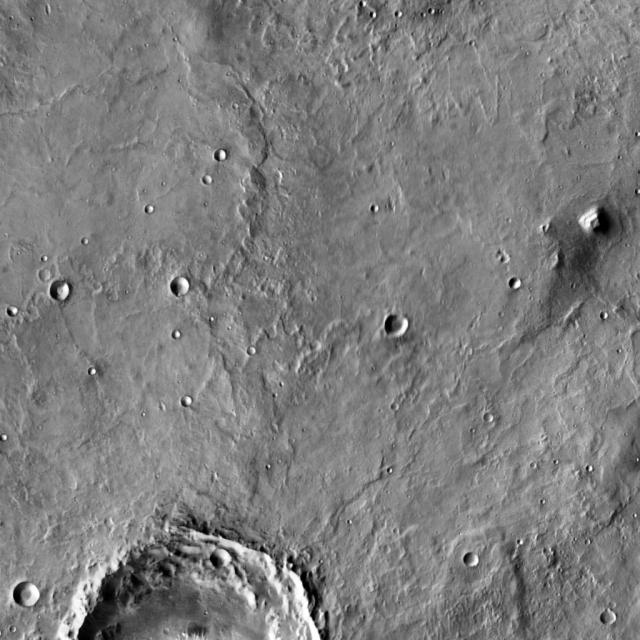crater: (72, 528, 320, 640), (21, 583, 47, 608), (386, 314, 408, 336), (48, 280, 70, 302), (216, 551, 236, 570), (170, 278, 189, 296), (608, 611, 623, 626), (35, 268, 50, 282), (465, 554, 479, 568), (498, 252, 511, 264), (510, 277, 522, 289), (214, 150, 226, 162), (6, 305, 18, 317), (180, 396, 192, 408), (314, 340, 326, 350), (170, 566, 180, 577), (369, 203, 379, 213), (549, 549, 559, 559), (482, 413, 492, 423), (88, 366, 97, 376), (389, 402, 398, 412), (144, 204, 153, 213), (203, 177, 212, 186), (247, 347, 256, 356), (0, 434, 8, 442), (159, 403, 167, 411), (81, 237, 89, 245), (608, 594, 615, 602), (542, 224, 549, 232), (40, 254, 47, 262), (395, 11, 403, 18), (600, 312, 607, 319), (173, 330, 180, 337), (370, 11, 377, 18), (530, 462, 537, 468), (10, 619, 16, 625), (586, 466, 592, 472)
